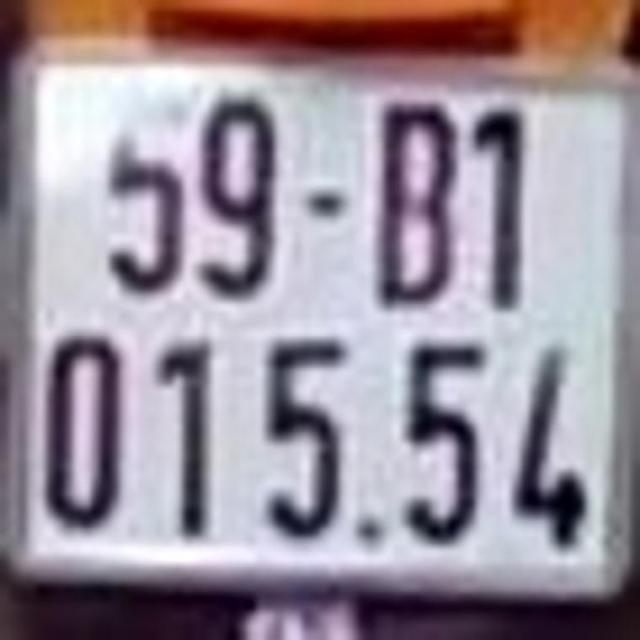0: (46, 334, 119, 524)
1: (157, 327, 210, 544), (472, 102, 522, 308)
4: (508, 340, 586, 542)
5: (104, 86, 186, 292), (408, 344, 488, 544), (268, 331, 340, 535)
9: (200, 95, 278, 292)
B: (383, 100, 459, 318)
